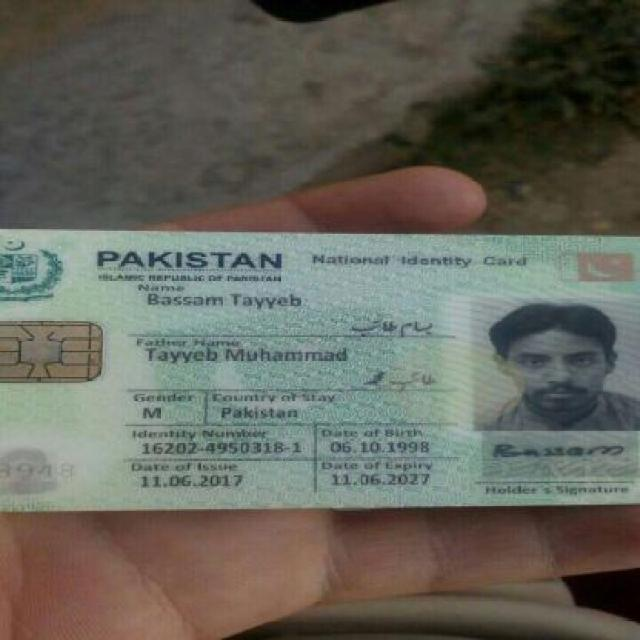Front: (6, 221, 632, 514)
